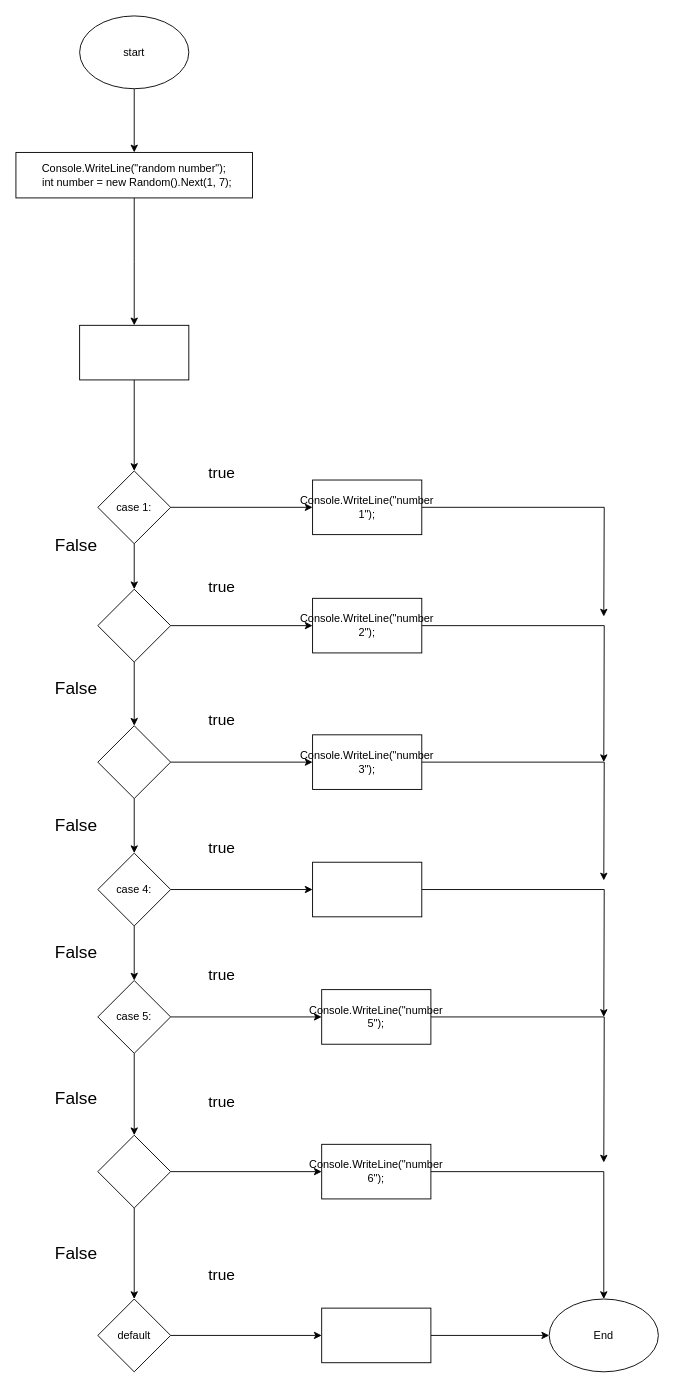
Some shapes in this 674 by 1388 pixel diagram are drawn without their labels. Each missing label, with the centre of its shape:
case 2:: pixel 134 625
case 3:: pixel 134 762
case 6:: pixel 134 1171
Console.WriteLine("error");: pixel 376 1335
Console.WriteLine("number 4");: pixel 367 889
switch (number): pixel 134 352
